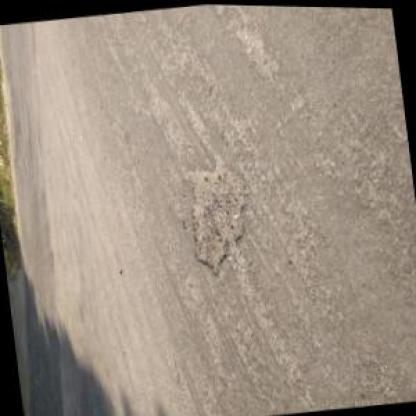pothole: (179, 148, 258, 280)
